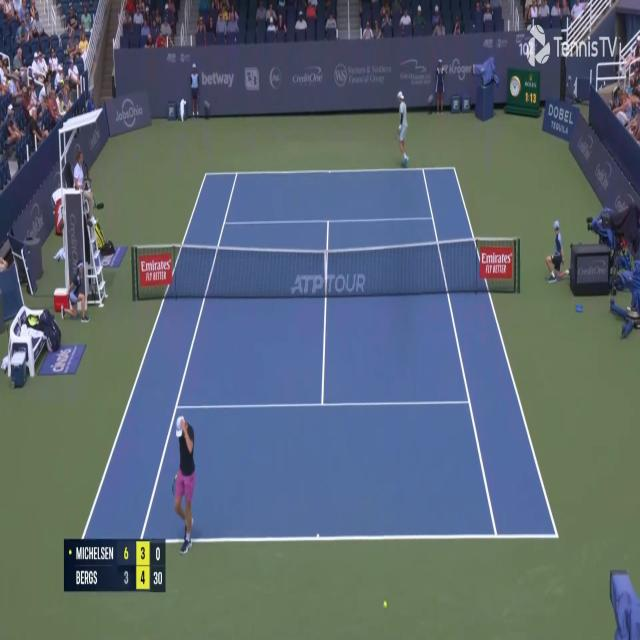tennis-player: (170, 413, 198, 558), (396, 89, 411, 169)
